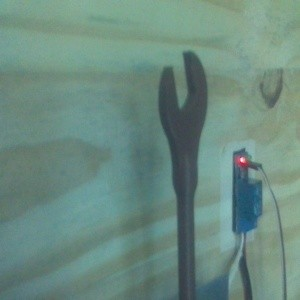spanner: (158, 50, 209, 300)
